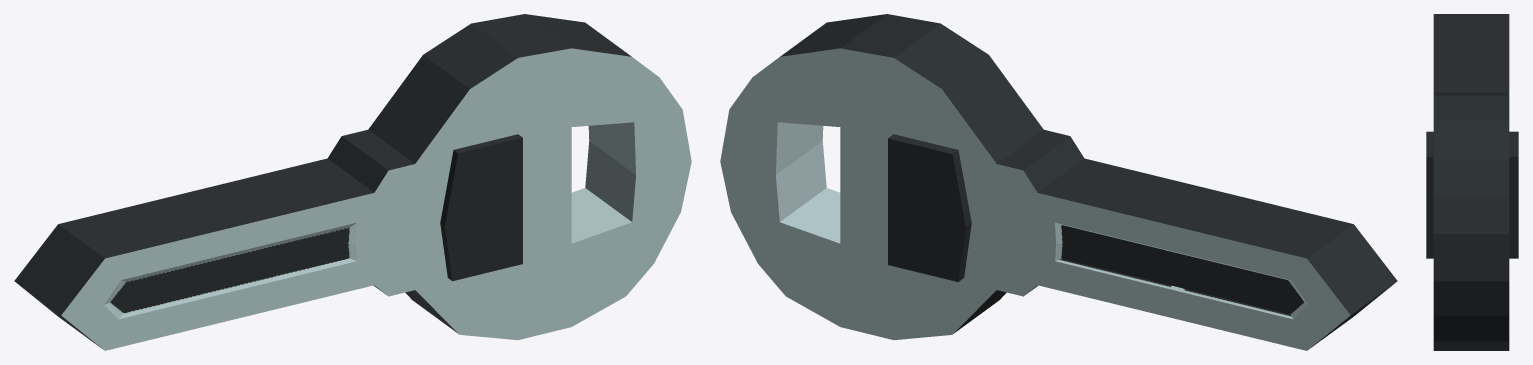
The model's file is Chave.dae.
3 renders of one model, left to right at view 1: azimuth 30°, elevation 25°; view 2: azimuth 150°, elevation 25°; view 3: azimuth 270°, elevation 25°, orthographic. The views are drawn at different scales.
Parts seen in each view (by area): view 1: Chave; view 2: Chave; view 3: Chave.
Boxes of the visible parts, bbox=[...] form: Chave: bbox=[14, 14, 691, 350]; Chave: bbox=[720, 14, 1397, 350]; Chave: bbox=[1426, 14, 1518, 350].
Bounding box in the file's own units: 1.06 × 0.1671 × 0.4524.
1 material, 1 textured.
